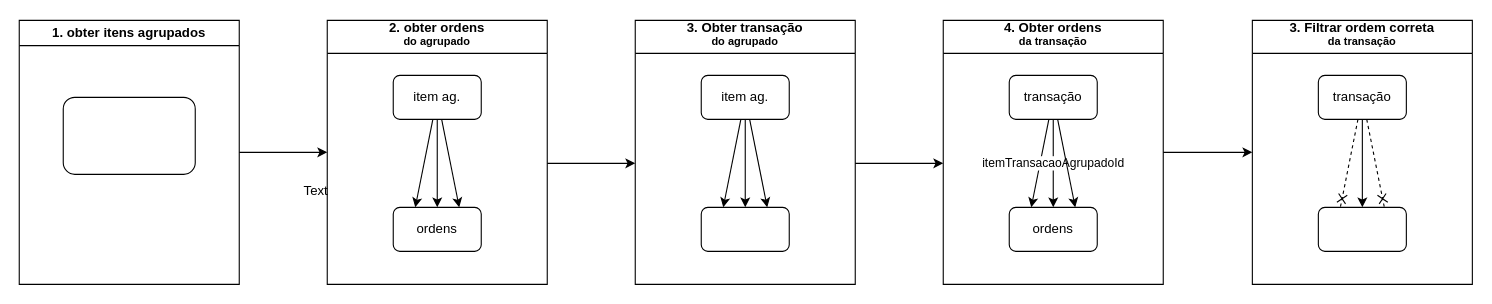
The diagram is 1492 pixels wide and 304 high, and some of its shapes have lost their labels. Each missing label, with the centre of its shape:
item agrupado: the point at 128,135
ordem: the point at 1361,228
transações: the point at 744,228
